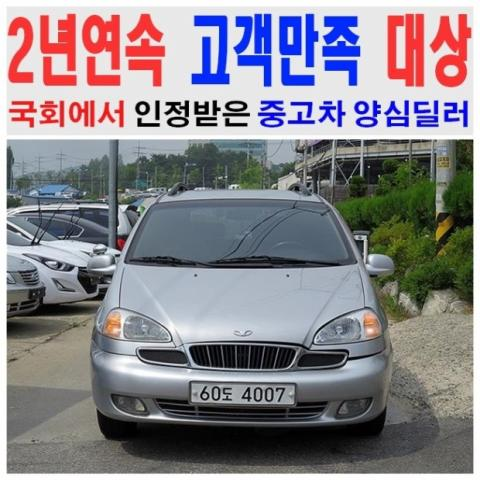LP: (184, 379, 304, 414)
